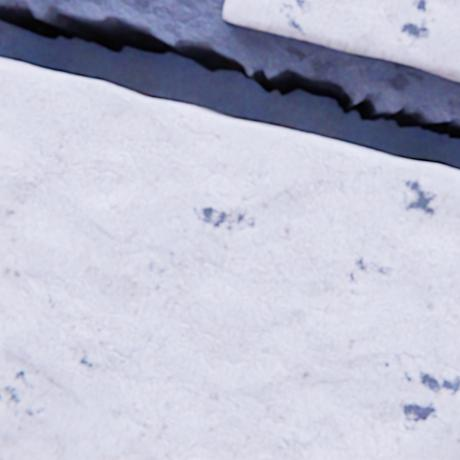brick: (0, 61, 459, 459), (223, 0, 459, 81)
crack: (0, 0, 459, 171)
